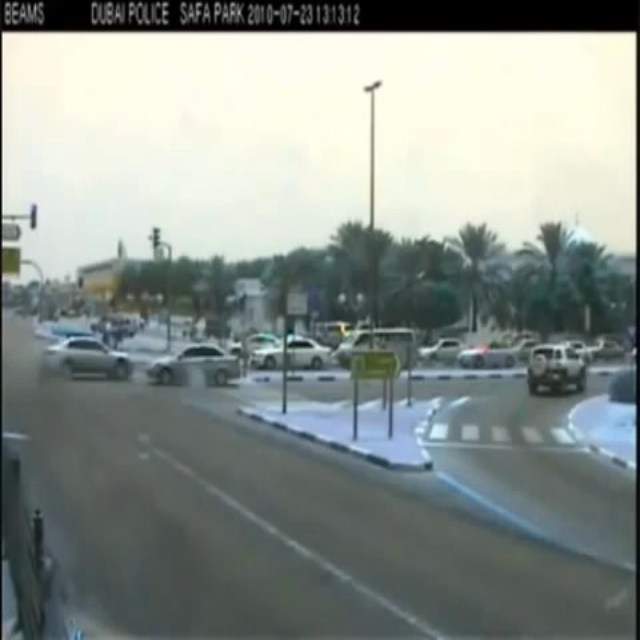acc: (40, 333, 248, 396)
